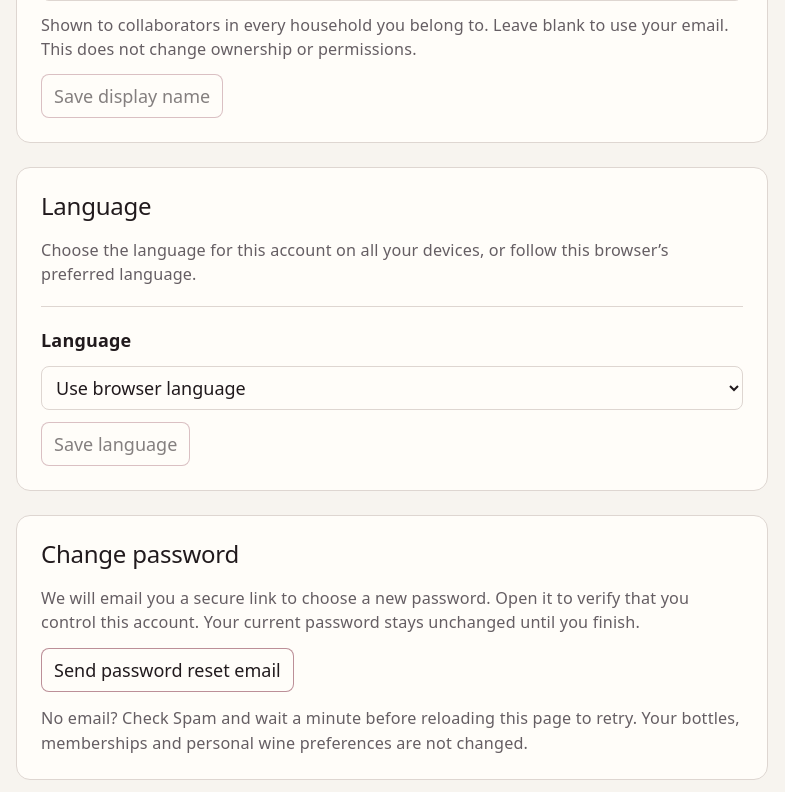
Scenario: account settings › saves the language selection to the current account
(page scrolled)
Select "Français" in the dropdown with id "account-language": (392, 388) [41,366,743,410]
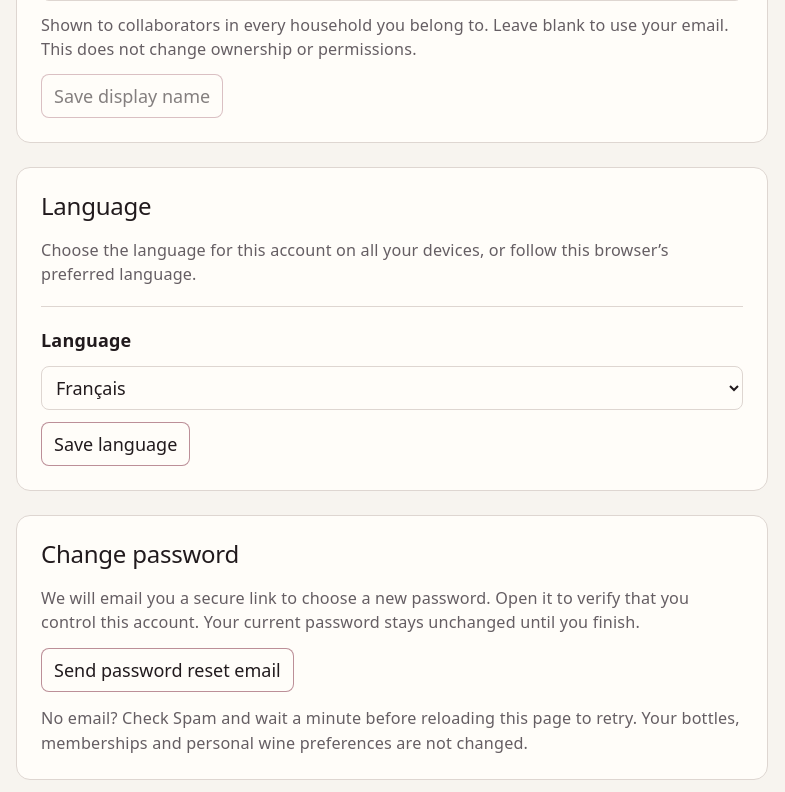
Click the button "Save language": click(116, 444) [41,422,190,466]
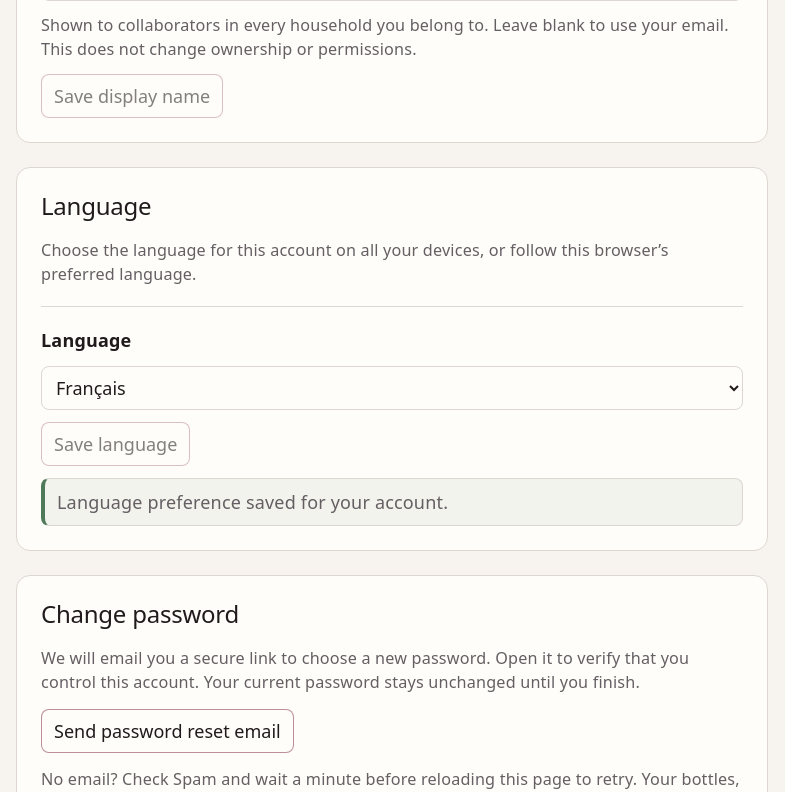
Check: the text "Language preference saved for your account" is shown, box [57,490,448,514]
